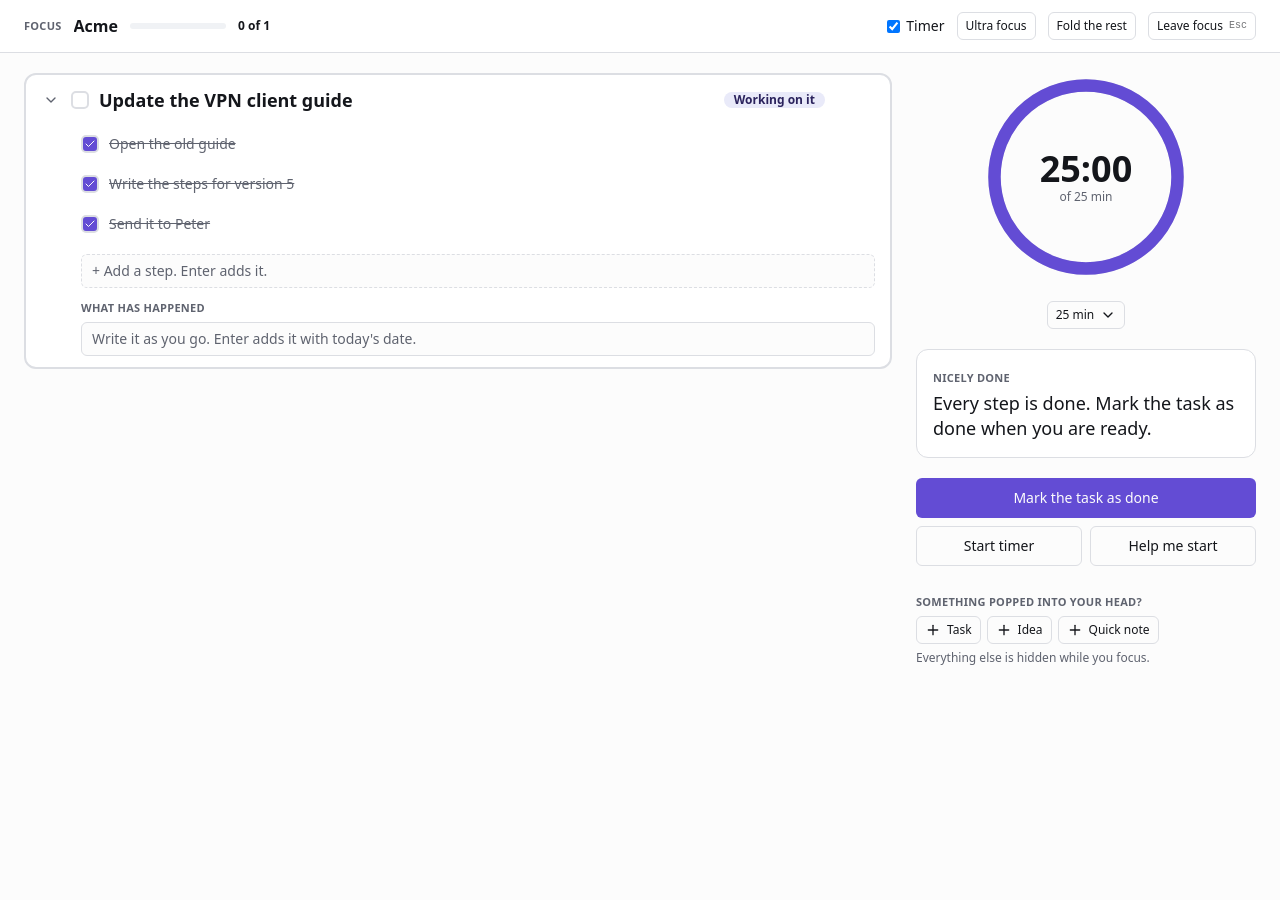
it: FocusMode › ticks the task and says the epic is done when it was the last open one
Click the button "Mark the task as done".
click(1086, 498)  # box [916,478,1256,518]
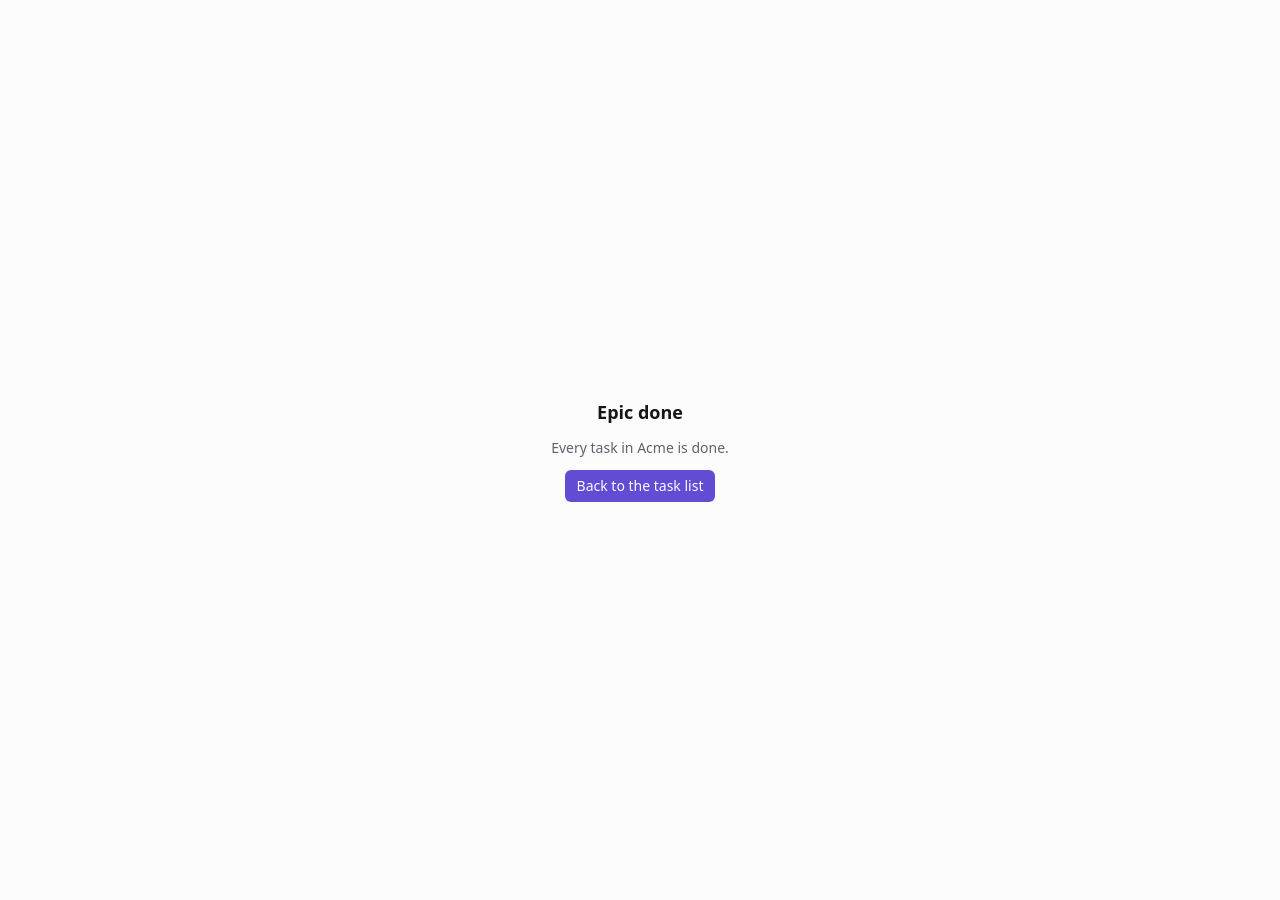
Check: the text "Epic done" is shown, box [597,398,683,426]
